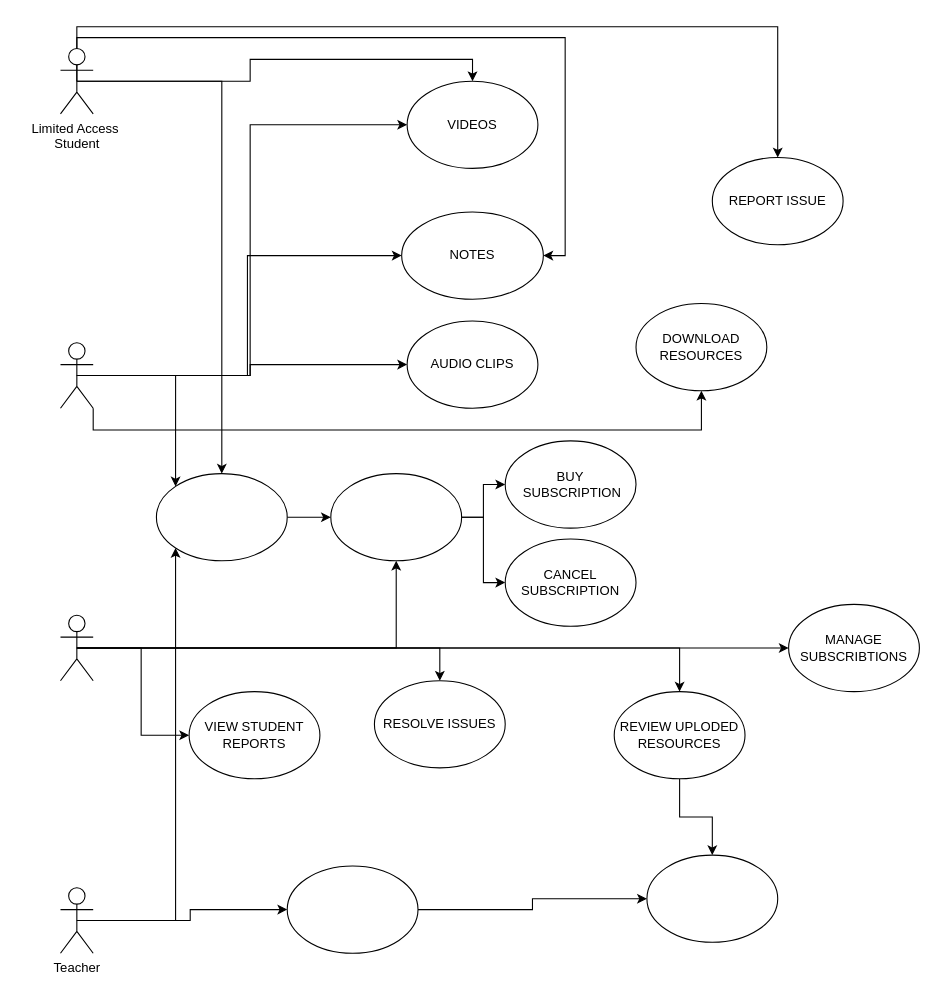
Image size: 938x995. Some labels were removed from this diagram. The shapes that lost their labels are listed below. From the top down, each one's centre as x and y in pixels, then its label:
At point 76,375: "Annual Subscription User".
At point 221,517: "CREATE ACCOUNT".
At point 396,517: "LOG IN".
At point 76,647: "Administrator".
At point 352,909: "UPLODE RESOURCES".
At point 712,898: "MANAGE RESOURCES".
